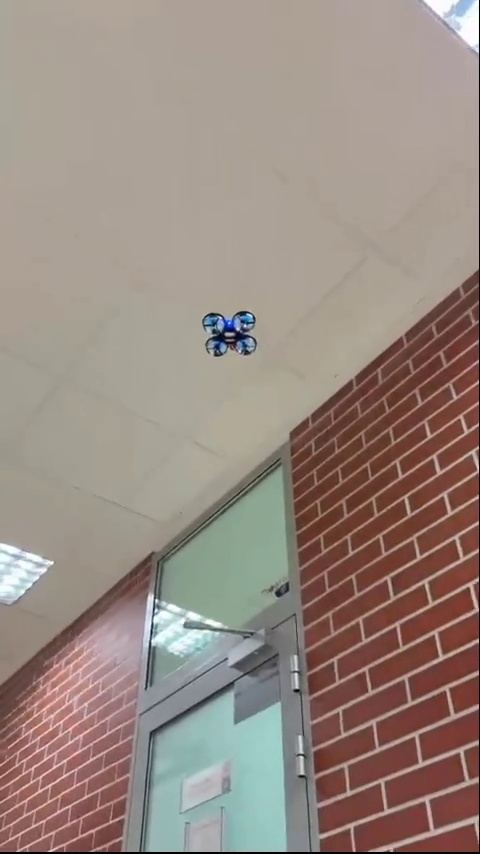drone: (207, 313, 260, 357)
